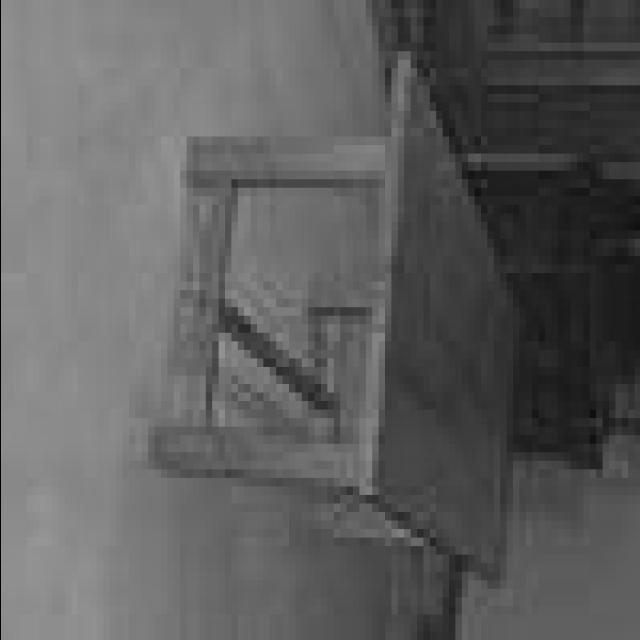table: (148, 54, 522, 590)
